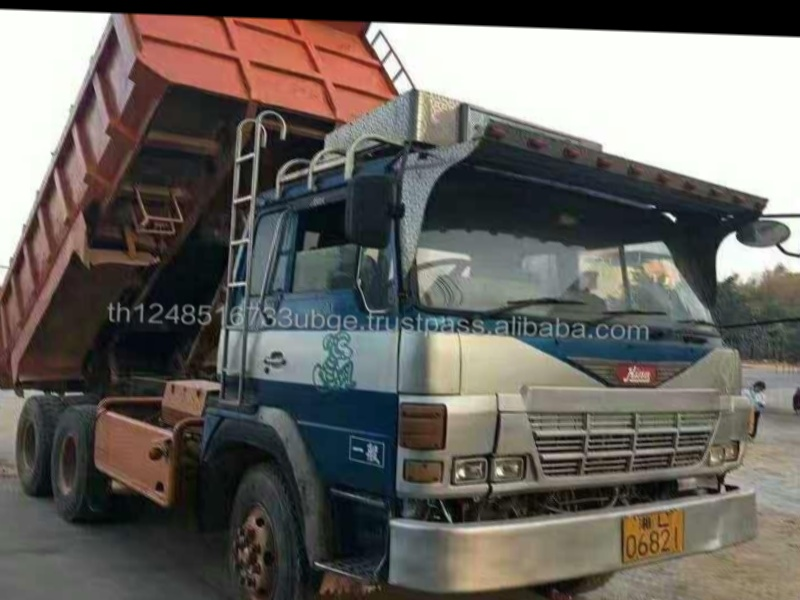truck: (0, 8, 773, 600)
